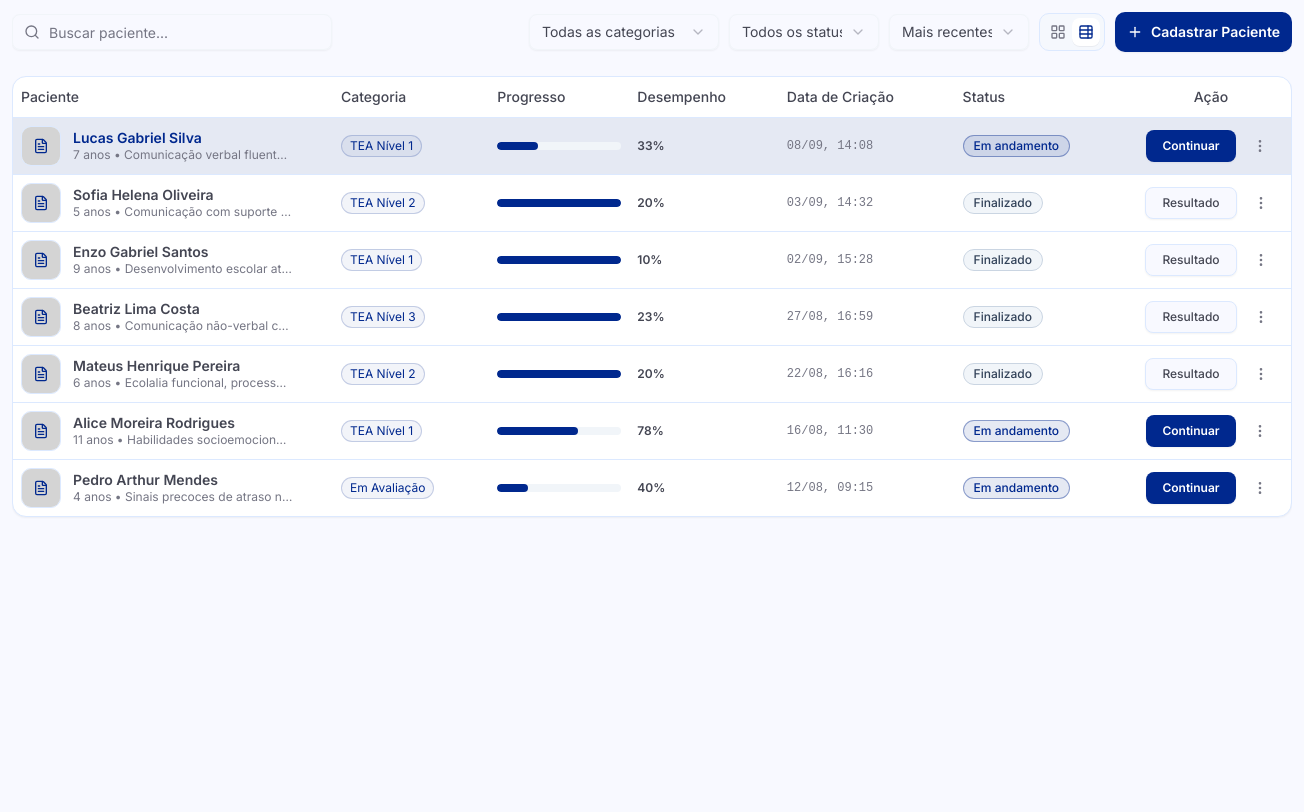
Test: Componente ListaPacientes (Alternador Tabela vs Grid de Cards) › deve alternar de volta para o Grid ao clicar no botão de Grid
This screenshot has width=1304, height=812.
Click the button with test id "toggle-view-grid": (1058, 32) [1044,18,1072,46]
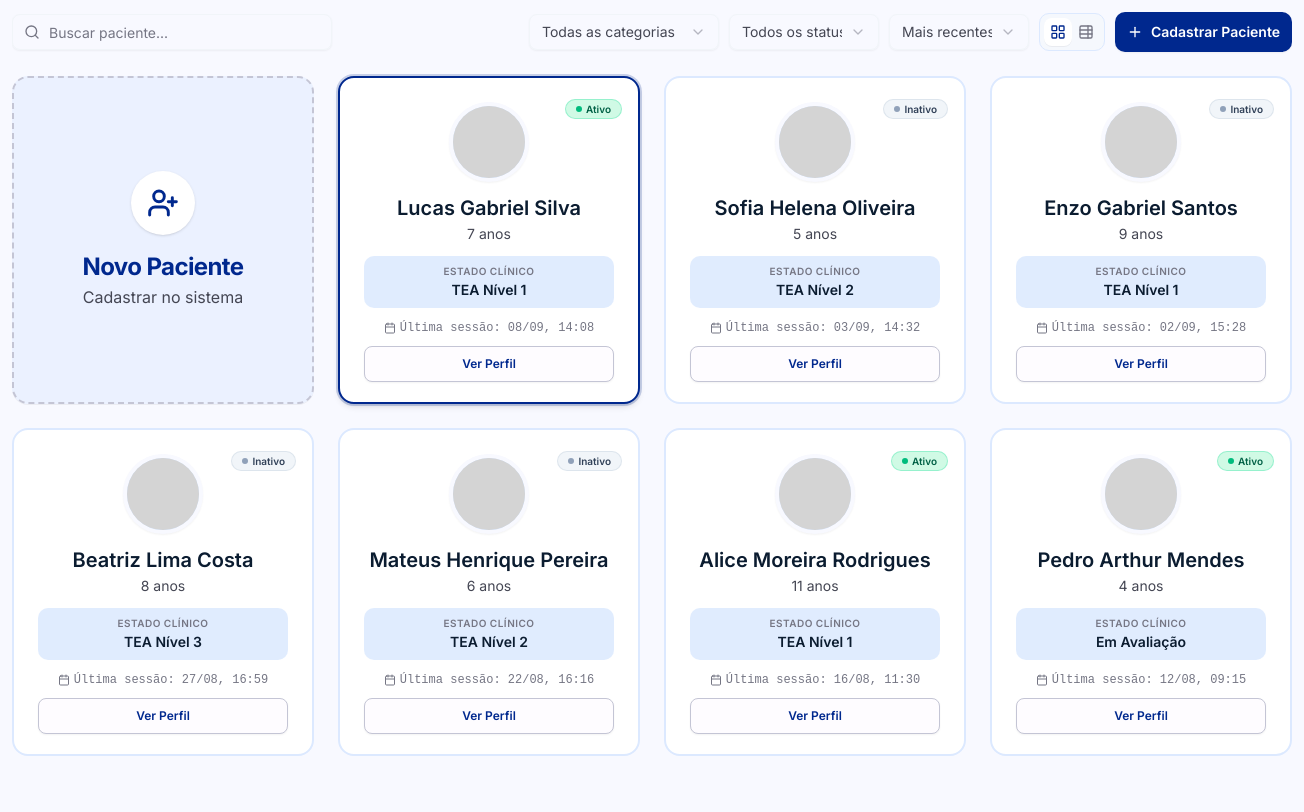
Expected: the element with test id "grid-pacientes" is shown
Expected: the button with test id "card-adicionar-paciente" is shown, [12,76,314,404]
